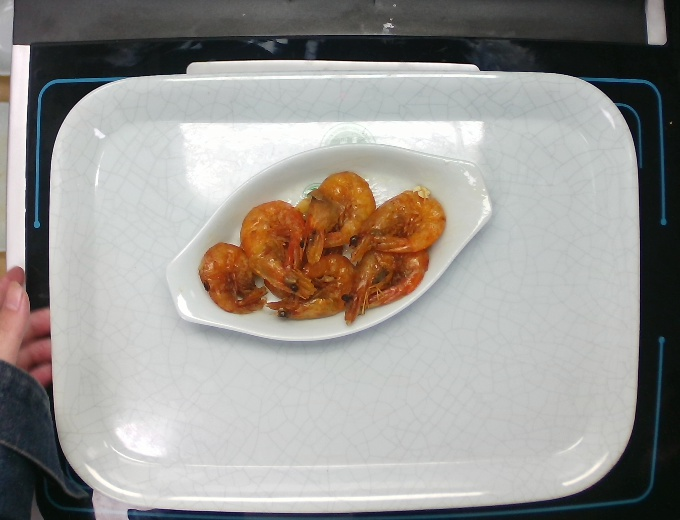JYsf-Yu_Pan: (160, 138, 499, 348)
